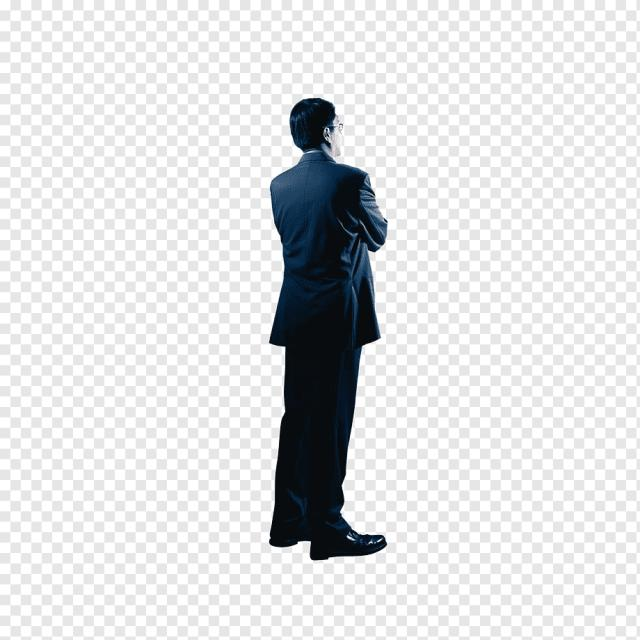adult: (261, 94, 394, 562)
